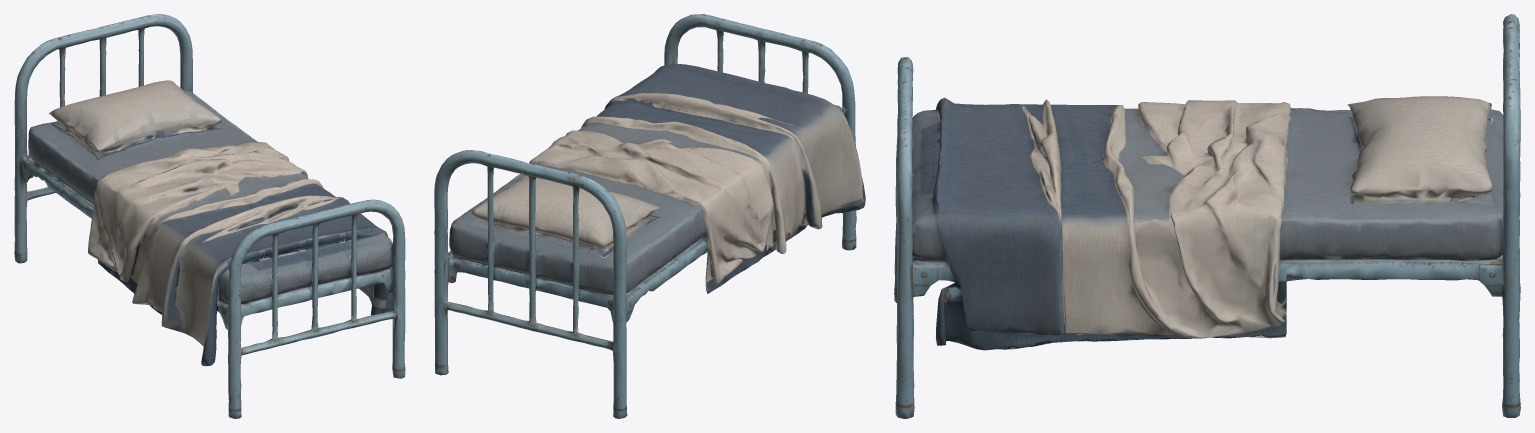
The model's file is S1_IsolationBed.glb.
3 views of the same model, side by side, from view 1: azimuth 30°, elevation 25°; view 2: azimuth 150°, elevation 25°; view 3: azimuth 270°, elevation 25° (orthographic). The views are drawn at different scales.
Parts seen in each view (by area): view 1: texture_mapping; view 2: texture_mapping; view 3: texture_mapping.
Part boxes in pixels (x1=…): texture_mapping: x1=14, y1=14, x2=405, y2=418; texture_mapping: x1=434, y1=14, x2=865, y2=418; texture_mapping: x1=894, y1=14, x2=1520, y2=418.
Size of the model in its own units: 0.5504 by 0.5345 by 0.9952.
1 material, 1 textured.
